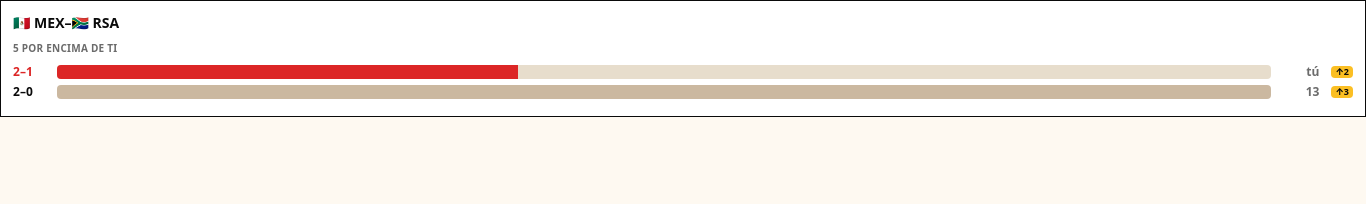
ConsensusCard drill-down › filters to rivals-above on the 2-1 scoreline when the 2-1 ↑ mark is tapped
What coordinates should you click on to do the following:
click the button with test id "rivals-above-mark" showing "↑2"
I would click on:
 (1342, 72)
Its box is [1331,66,1353,78].
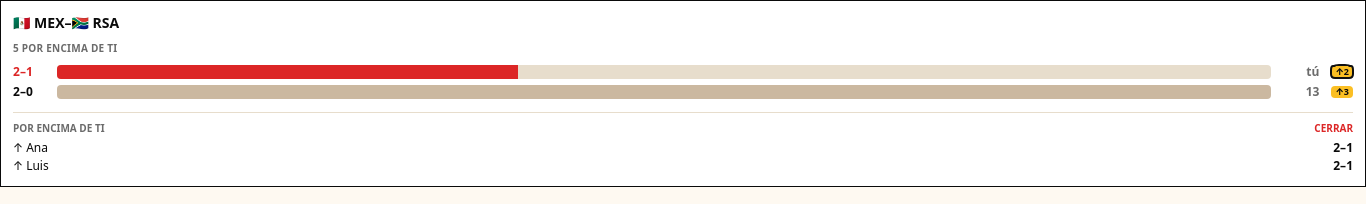
expect the text "Ana" is shown: met, box [26,139,48,156]
expect the text "Luis" is shown: met, box [26,157,49,174]
